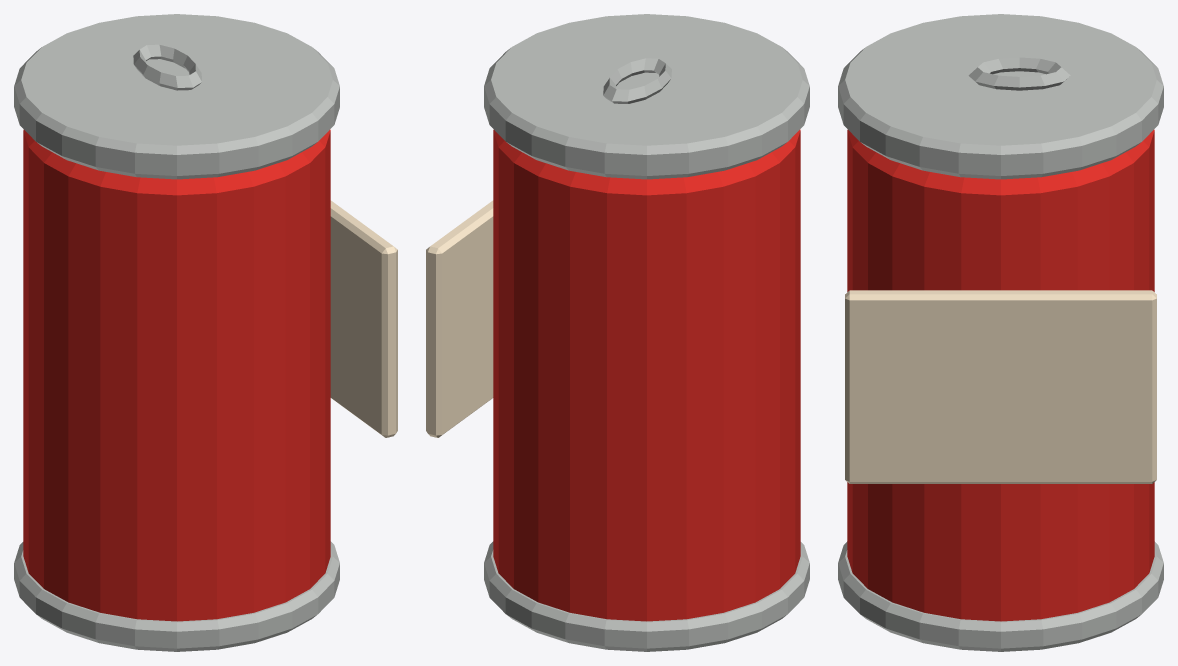
File: item_soda.glb
3 views of the same model, side by side, from view 1: azimuth 30°, elevation 25°; view 2: azimuth 150°, elevation 25°; view 3: azimuth 270°, elevation 25° (orthographic).
Visible parts, largest first — view 1: item_soda; view 2: item_soda; view 3: item_soda.
Part boxes in pixels (x1,y1,x2,y2): item_soda: (14,14,397,651); item_soda: (426,14,809,651); item_soda: (838,14,1163,651).
Size of the model in its own units: 0.071 by 0.123 by 0.07.
